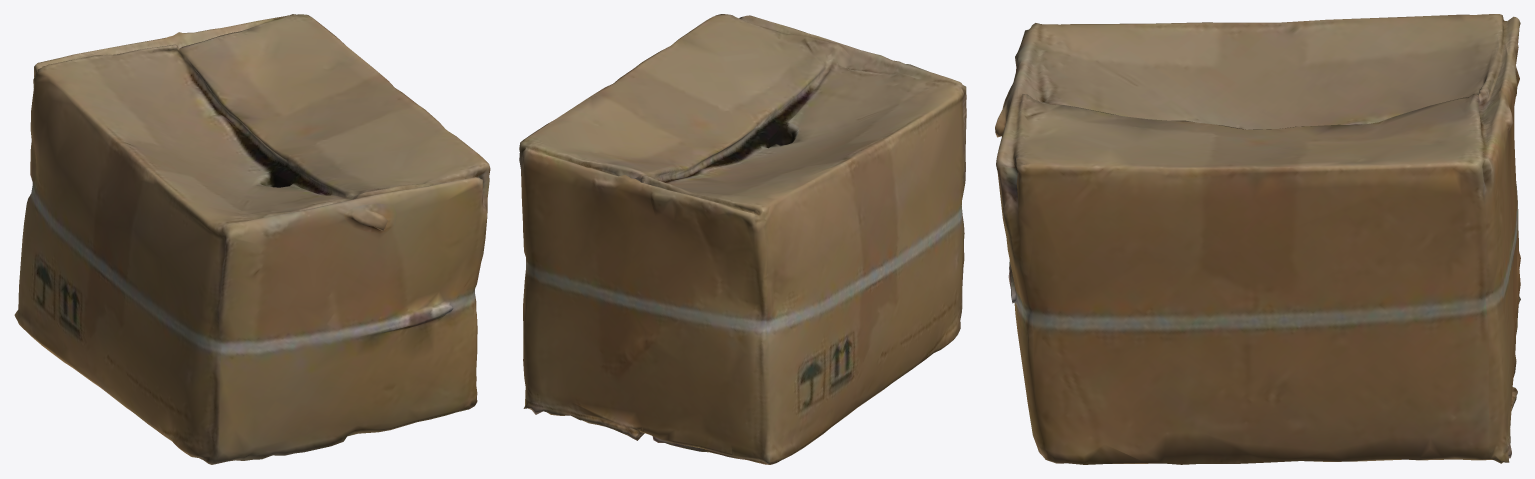
File: cardboard_box_01.glb
3 renders of one model, left to right at view 1: azimuth 30°, elevation 25°; view 2: azimuth 150°, elevation 25°; view 3: azimuth 270°, elevation 25°, orthographic. The views are drawn at different scales.
Visible parts, largest first — view 1: cardboard_box_01; view 2: cardboard_box_01; view 3: cardboard_box_01.
Boxes of the visible parts, bbox=[...] form: cardboard_box_01: bbox=[14, 14, 490, 464]; cardboard_box_01: bbox=[519, 14, 966, 464]; cardboard_box_01: bbox=[995, 14, 1520, 464].
Size of the model in its own units: 0.3869 by 0.3418 by 0.5159.
1 material, 1 textured.
